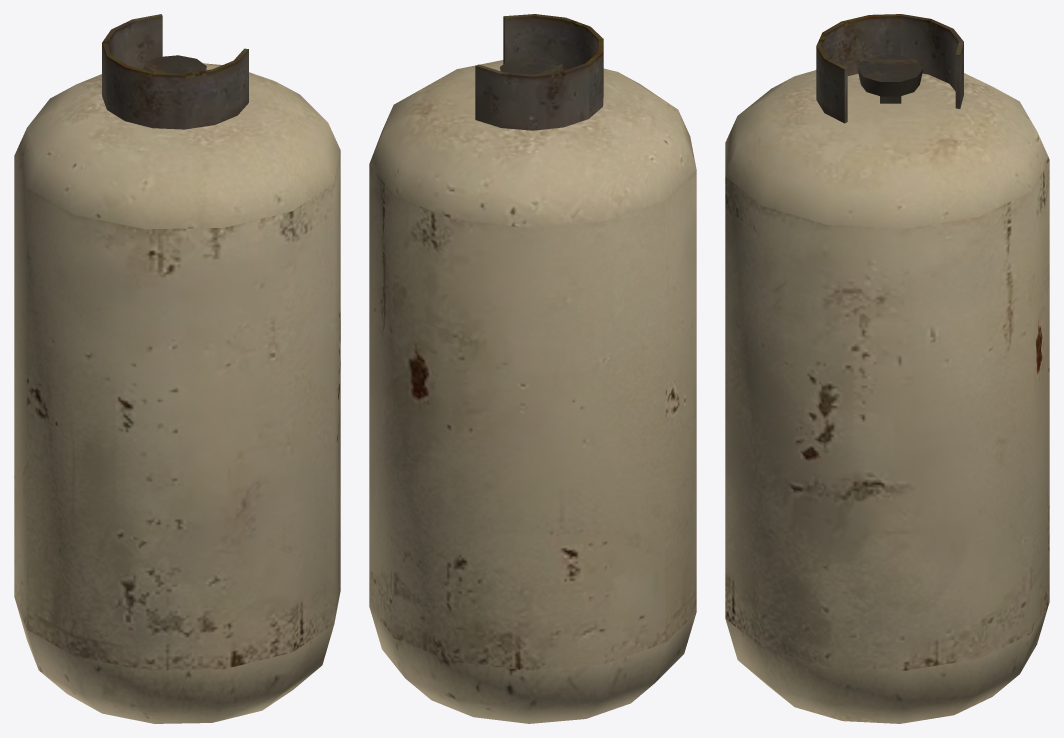
Rendered from canister_propane01a.glb.
The picture shows the model from 3 angles, left to right: view 1: azimuth 30°, elevation 25°; view 2: azimuth 150°, elevation 25°; view 3: azimuth 270°, elevation 25°; orthographic projection.
Visible parts, largest first — view 1: 0_canister_propane01a; view 2: 0_canister_propane01a; view 3: 0_canister_propane01a.
Part boxes in pixels (<box>): 0_canister_propane01a: <box>14,14,340,723</box>; 0_canister_propane01a: <box>369,14,696,723</box>; 0_canister_propane01a: <box>725,14,1049,723</box>.
Bounding box in the file's own units: 0.7794 × 1.65 × 0.7738.
Materials: 1 (1 with a texture image).
